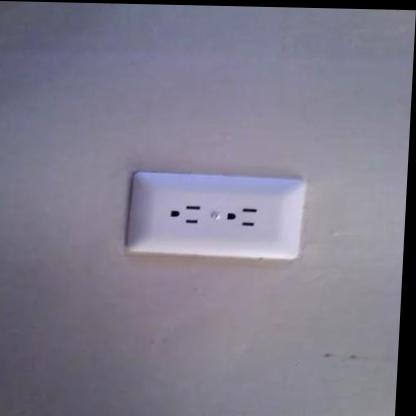OUTLET: (125, 169, 304, 258)
